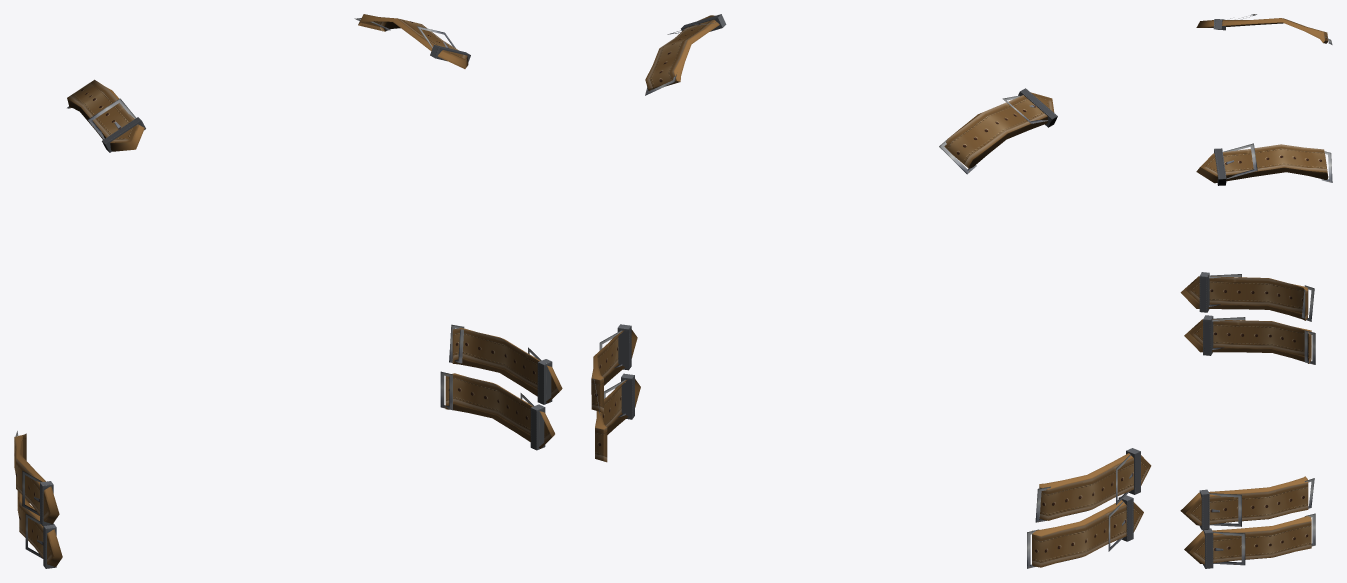
File: ceinture.glb
3 views of the same model, side by side, from view 1: azimuth 30°, elevation 25°; view 2: azimuth 150°, elevation 25°; view 3: azimuth 270°, elevation 25° (orthographic). The views are drawn at different scales.
Visible parts, largest first — view 1: ceinture; view 2: ceinture; view 3: ceinture.
Part boxes in pixels (box(x1,y1,x2,y2)): ceinture: box(14, 14, 562, 568); ceinture: box(591, 14, 1151, 568); ceinture: box(1180, 14, 1332, 568).
Bounding box in the file's own units: 0.3995 × 0.3177 × 0.1149.
1 material, 1 textured.
